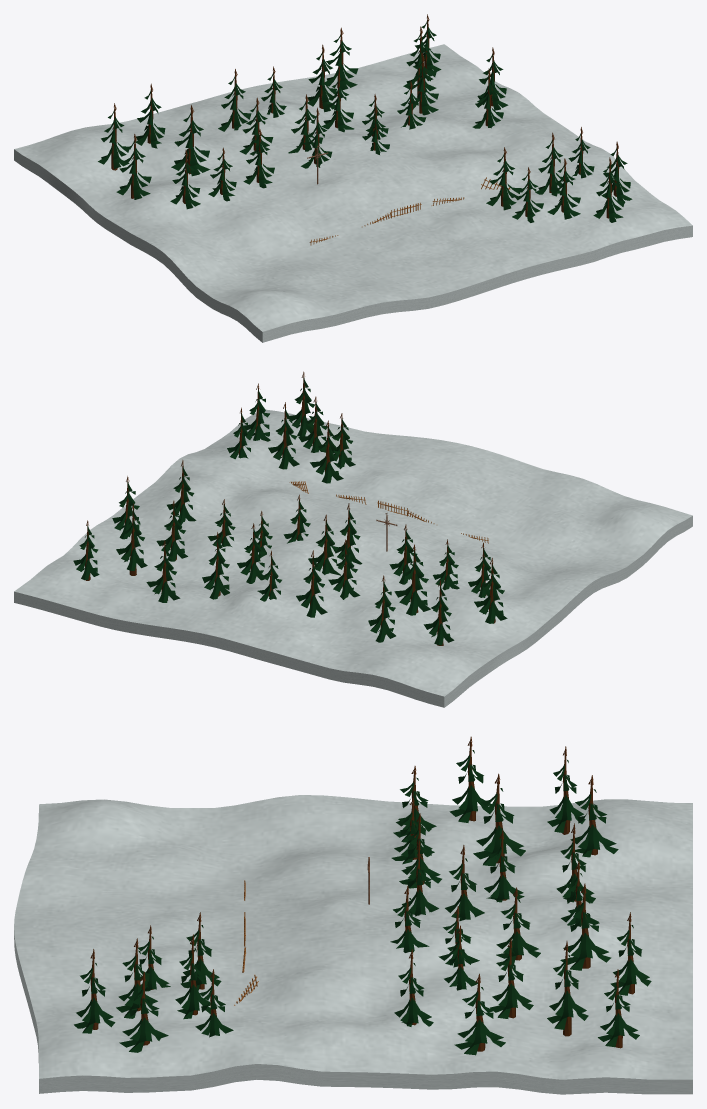
The model's file is blizzardenV.gltf.
3 renders of one model, top to bottom at view 1: azimuth 30°, elevation 25°; view 2: azimuth 150°, elevation 25°; view 3: azimuth 270°, elevation 25°, orthographic. The views are drawn at different scales.
Visible parts, largest first — view 1: terrain.001, Pine_Tree2.001, Pine_Tree12.001, Pine_Tree20.001, Pine_Tree4.001, Pine_Tree28.001, Pine_Tree10.001, Pine_Tree32.001, Pine_Tree15.001, Pine_Tree30.001, Pine_Tree13.001, Pine_Tree25.001 (+13 smaller); view 2: terrain.001, Pine_Tree2.001, Pine_Tree12.001, Pine_Tree22.001, Pine_Tree20.001, Pine_Tree4.001, Pine_Tree31.001, Pine_Tree28.001, Pine_Tree8.001, Pine_Tree10.001, Pine_Tree15.001, Pine_Tree25.001 (+14 smaller); view 3: terrain.001, Pine_Tree2.001, Pine_Tree20.001, Pine_Tree6.001, Pine_Tree22.001, Pine_Tree10.001, Pine_Tree29.001, Pine_Tree12.001, Pine_Tree25.001, Pine_Tree30.001, Pine_Tree13.001, Pine_Tree4.001 (+19 smaller).
Part boxes in pixels (bbox=[...]): terrain.001: bbox=[14, 44, 692, 342]; Pine_Tree2.001: bbox=[171, 109, 210, 176]; Pine_Tree12.001: bbox=[116, 137, 151, 199]; Pine_Tree20.001: bbox=[307, 48, 336, 112]; Pine_Tree4.001: bbox=[324, 31, 358, 90]; Pine_Tree28.001: bbox=[486, 153, 521, 210]; Pine_Tree10.001: bbox=[135, 89, 165, 148]; Pine_Tree32.001: bbox=[547, 162, 580, 219]; Pine_Tree15.001: bbox=[98, 109, 129, 170]; Pine_Tree30.001: bbox=[593, 163, 624, 222]; Pine_Tree13.001: bbox=[321, 77, 354, 132]; Pine_Tree25.001: bbox=[405, 58, 438, 115]; terrain.001: bbox=[14, 409, 692, 707]; Pine_Tree2.001: bbox=[394, 549, 430, 615]; Pine_Tree12.001: bbox=[474, 563, 507, 623]; Pine_Tree22.001: bbox=[116, 508, 147, 575]; Pine_Tree20.001: bbox=[202, 536, 229, 599]; Pine_Tree4.001: bbox=[146, 545, 180, 602]; Pine_Tree31.001: bbox=[268, 407, 299, 469]; Pine_Tree28.001: bbox=[310, 425, 343, 483]; Pine_Tree8.001: bbox=[296, 555, 327, 617]; Pine_Tree10.001: bbox=[368, 580, 395, 642]; Pine_Tree15.001: bbox=[423, 585, 454, 645]; Pine_Tree25.001: bbox=[156, 505, 187, 561]; terrain.001: bbox=[14, 795, 692, 1094]; Pine_Tree2.001: bbox=[473, 784, 525, 866]; Pine_Tree20.001: bbox=[560, 894, 611, 970]; Pine_Tree6.001: bbox=[454, 973, 505, 1055]; Pine_Tree22.001: bbox=[547, 951, 588, 1036]; Pine_Tree10.001: bbox=[570, 785, 618, 857]; Pine_Tree29.001: bbox=[119, 971, 168, 1052]; Pine_Tree12.001: bbox=[449, 746, 493, 822]; Pine_Tree25.001: bbox=[490, 948, 533, 1018]; Pine_Tree30.001: bbox=[74, 959, 115, 1033]; Pine_Tree13.001: bbox=[496, 896, 540, 965]; Pine_Tree4.001: bbox=[610, 912, 651, 995].
Bounding box in the file's own units: 20 × 4.09 × 20.76.
70 materials, 70 textured.
